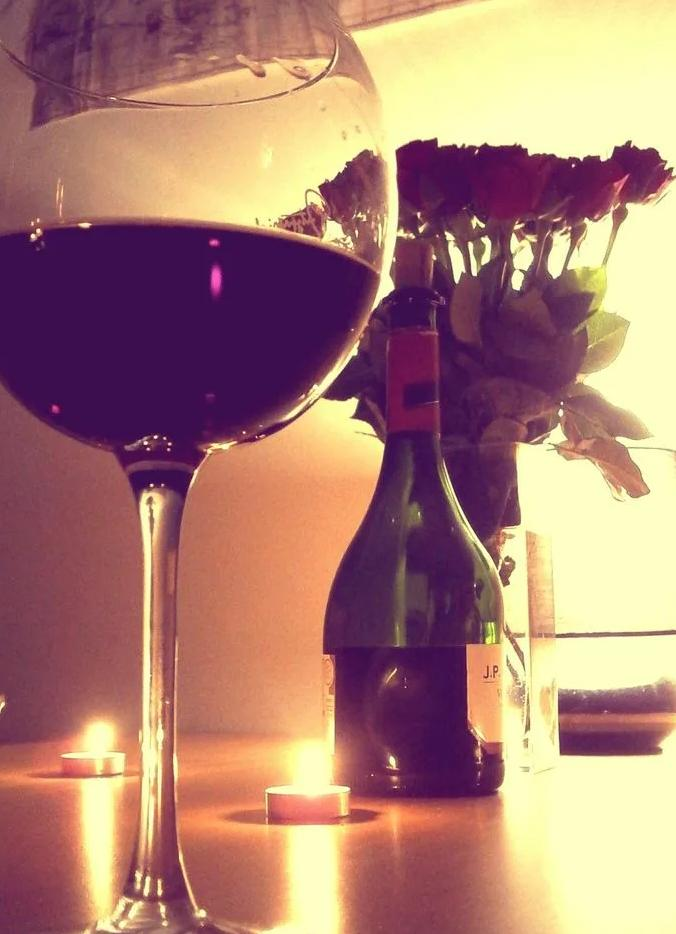wine bottle: (321, 285, 505, 800)
wine label: (467, 644, 505, 743)
